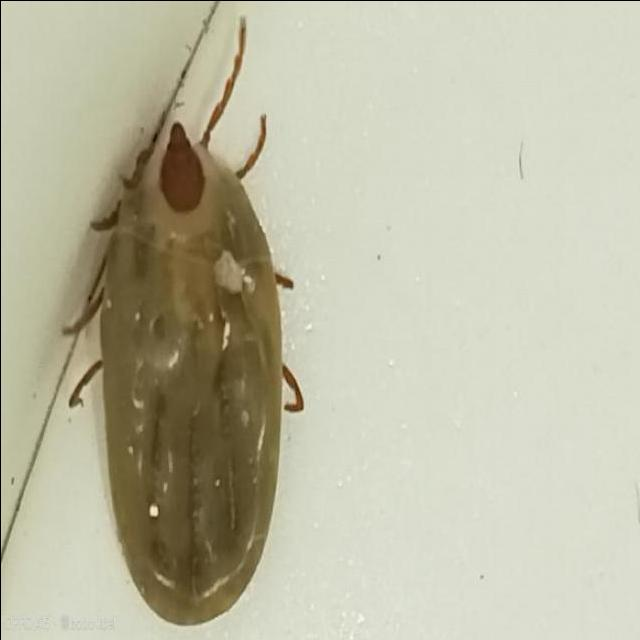Rhipicephalus Sanguineus-F-Fed: (61, 16, 303, 628)
